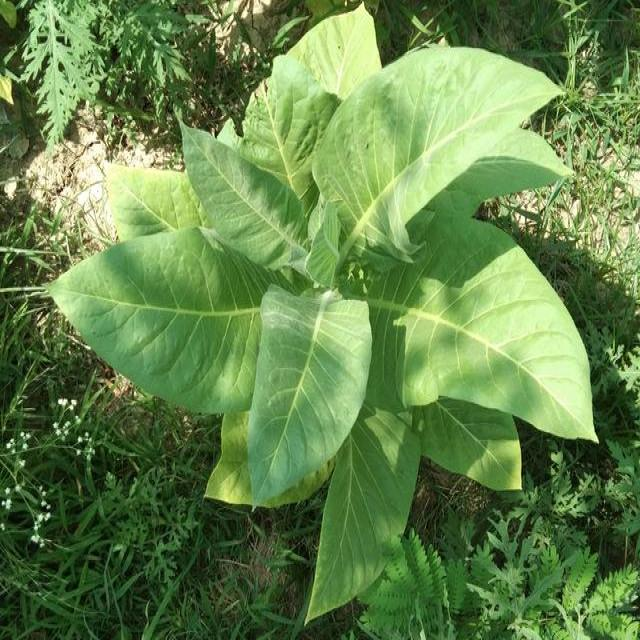crop: (79, 34, 580, 624)
